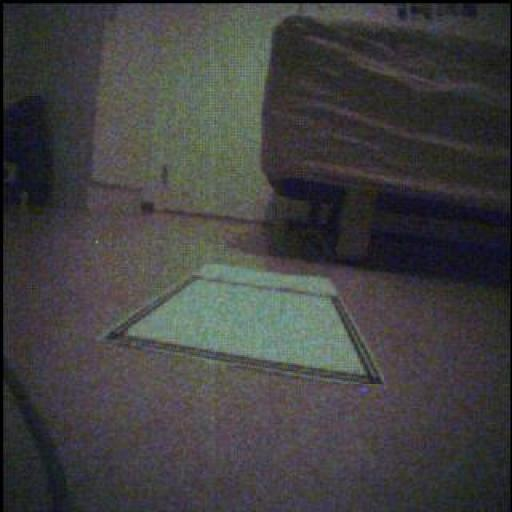pad: (104, 265, 384, 385)
